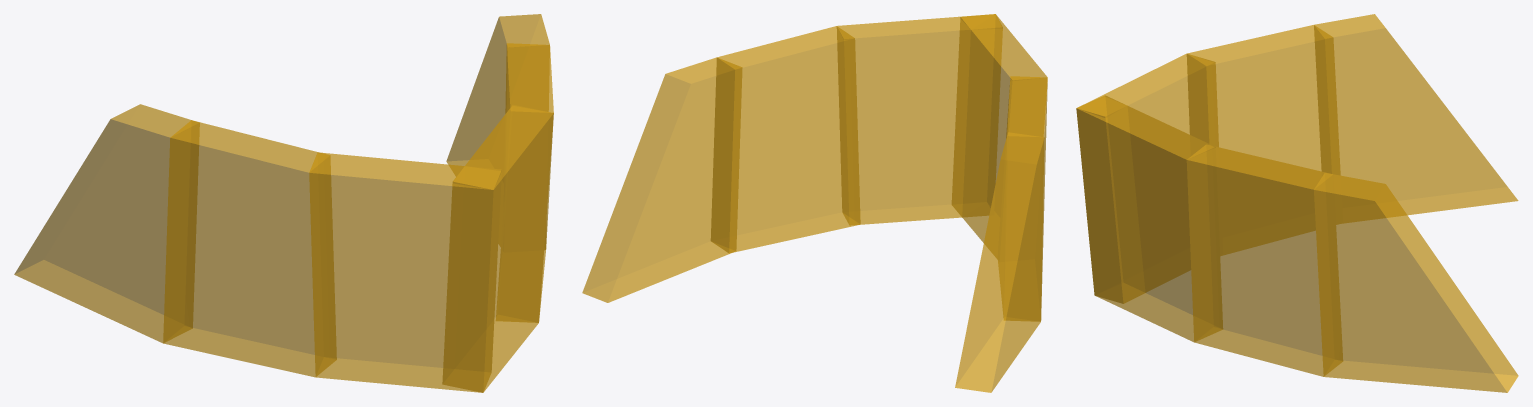
Rendered from SM_Veh_Ship_S_Front_01_Collision.fbx.
3 views of the same model, side by side, from view 1: azimuth 30°, elevation 25°; view 2: azimuth 150°, elevation 25°; view 3: azimuth 270°, elevation 25° (orthographic). The views are drawn at different scales.
Visible parts, largest first — view 1: SM_Veh_Ship_S_Front_01_Collision; view 2: SM_Veh_Ship_S_Front_01_Collision; view 3: SM_Veh_Ship_S_Front_01_Collision.
Part boxes in pixels (box(x1,y1,x2,y2)): SM_Veh_Ship_S_Front_01_Collision: box(14, 14, 553, 392); SM_Veh_Ship_S_Front_01_Collision: box(582, 14, 1047, 392); SM_Veh_Ship_S_Front_01_Collision: box(1076, 14, 1518, 392).
Size of the model in its own units: 484 by 209 by 439.
